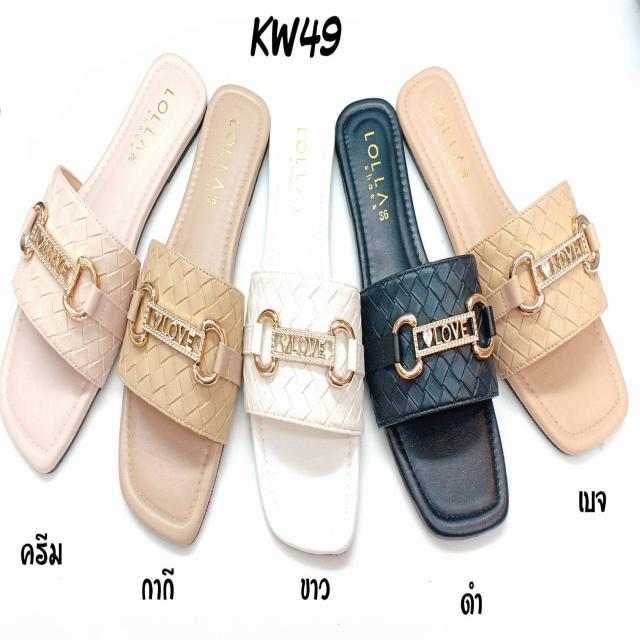bej: (399, 61, 624, 447)
black: (334, 100, 504, 532)
cream: (0, 53, 204, 466)
kakee: (119, 87, 266, 538)
white: (255, 98, 362, 551)
